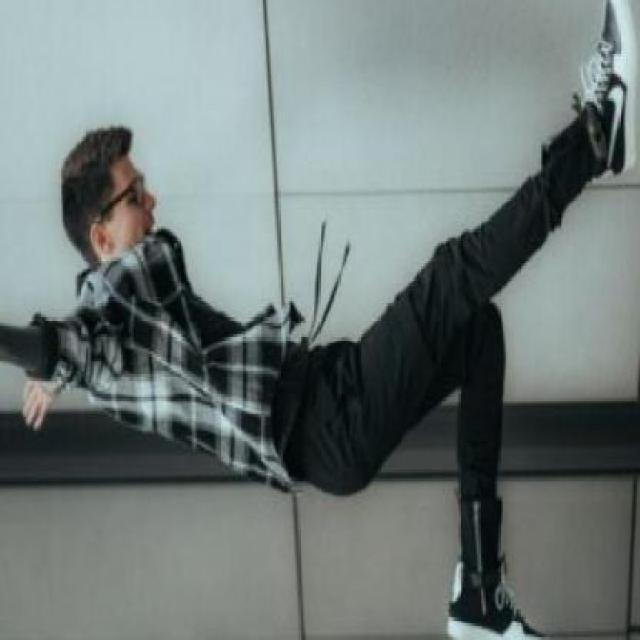fall: (3, 2, 639, 638)
